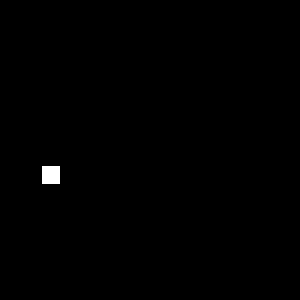circle: (42, 166, 60, 184)
